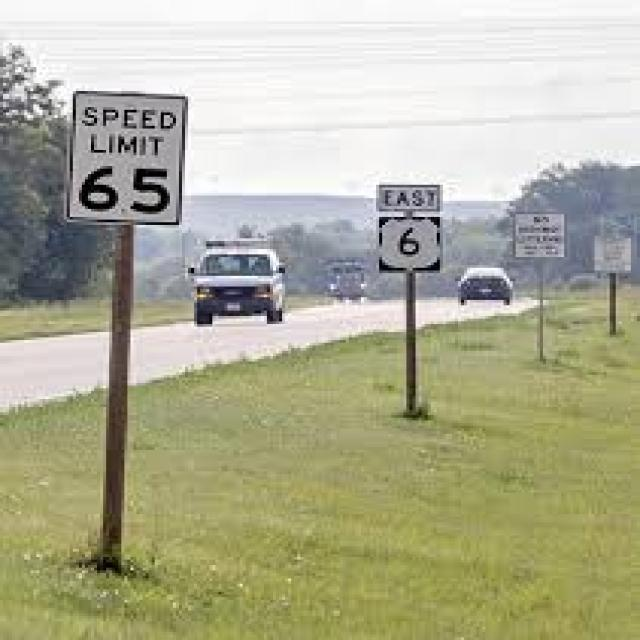speedLimit65: (65, 79, 187, 234)
